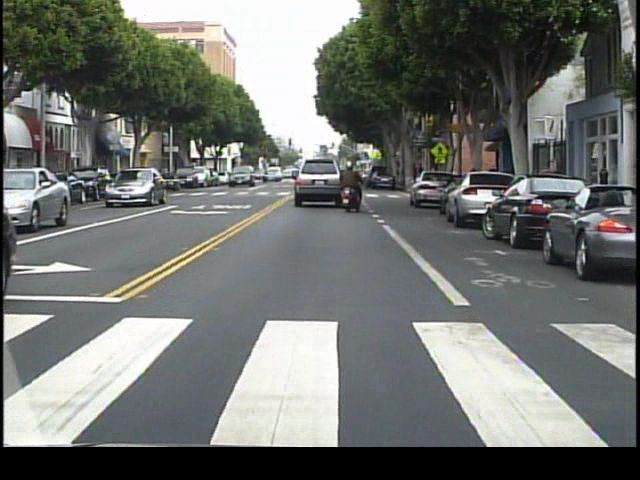car: (545, 180, 636, 279), (484, 178, 558, 250), (4, 163, 71, 231), (294, 156, 344, 213), (444, 168, 483, 227), (109, 167, 165, 202), (412, 168, 441, 207), (230, 165, 253, 187)
striscie pedonali: (5, 311, 636, 446), (172, 189, 289, 195), (362, 190, 402, 199)
